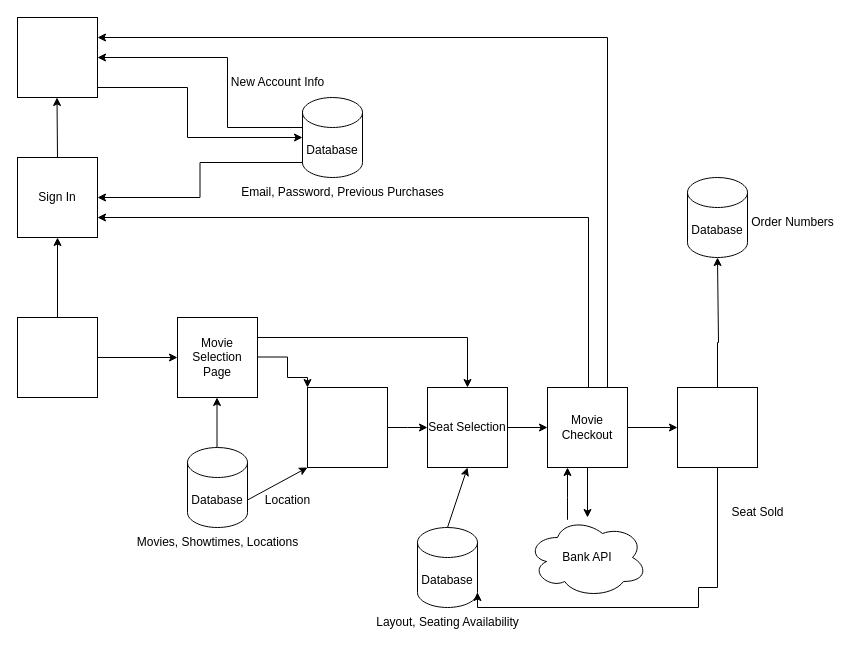
This 865x655 diagram has some shape labels left out. The box of each missing label's shape, as (x1, y1, x2, y2) in pixels:
Checkout Confirmation + QR Code: (676, 386, 758, 468)
Create Account: (16, 16, 98, 98)
Display Nearest Theaters (User Geolocation): (306, 386, 388, 468)
Home Page: (16, 316, 98, 398)
